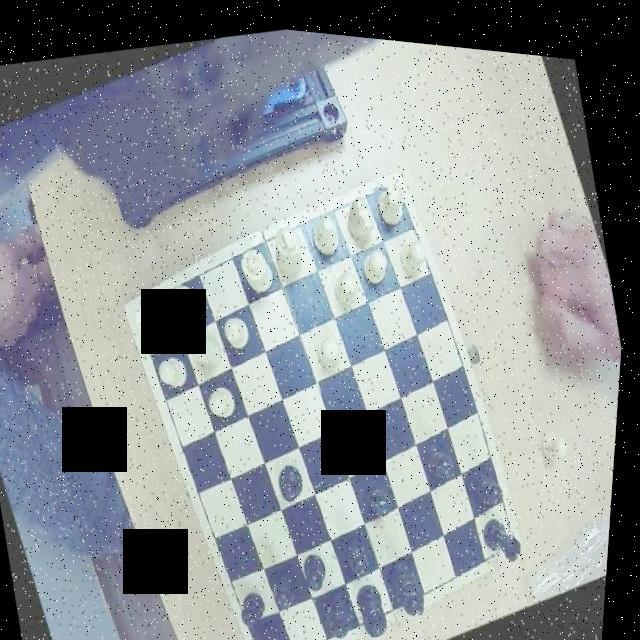chess-table-corners: (368, 158, 413, 206), (126, 287, 169, 332), (498, 515, 534, 555), (256, 626, 298, 640)
